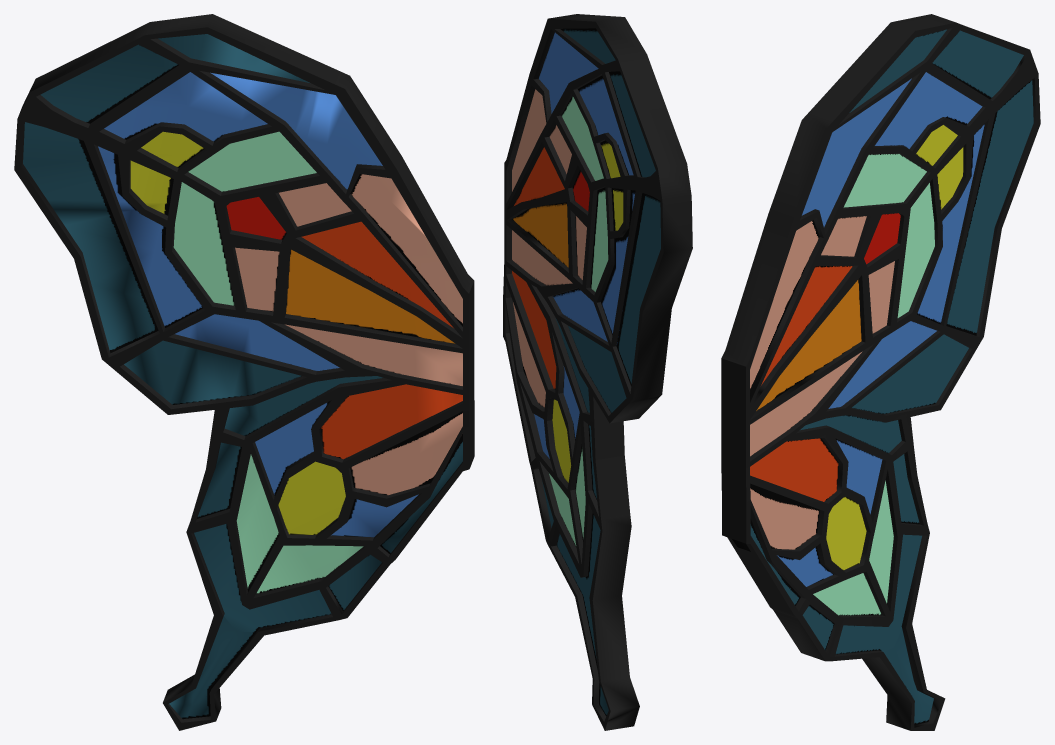
The model's file is FlowtBombArmL.fbx.
3 renders of one model, left to right at view 1: azimuth 30°, elevation 25°; view 2: azimuth 150°, elevation 25°; view 3: azimuth 270°, elevation 25°, orthographic.
Parts seen in each view (by area): view 1: polySurface582; view 2: polySurface582; view 3: polySurface582.
Boxes of the visible parts, x1,y1,x2,y2 form: polySurface582: (14,14,474,730); polySurface582: (503,14,692,730); polySurface582: (721,14,1040,730).
Bounding box in the file's own units: 0.6967 × 1.44 × 0.5881.
Materials: 2 (2 with a texture image).
